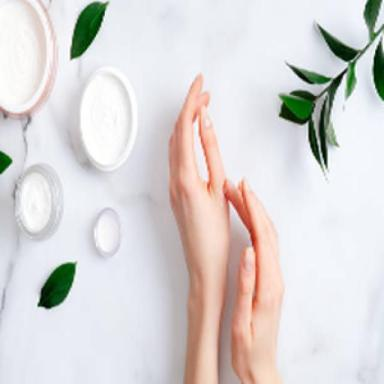normal skin: (169, 75, 283, 384)
